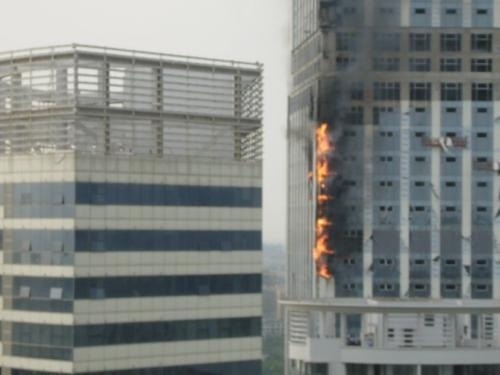fire: (308, 121, 335, 286)
